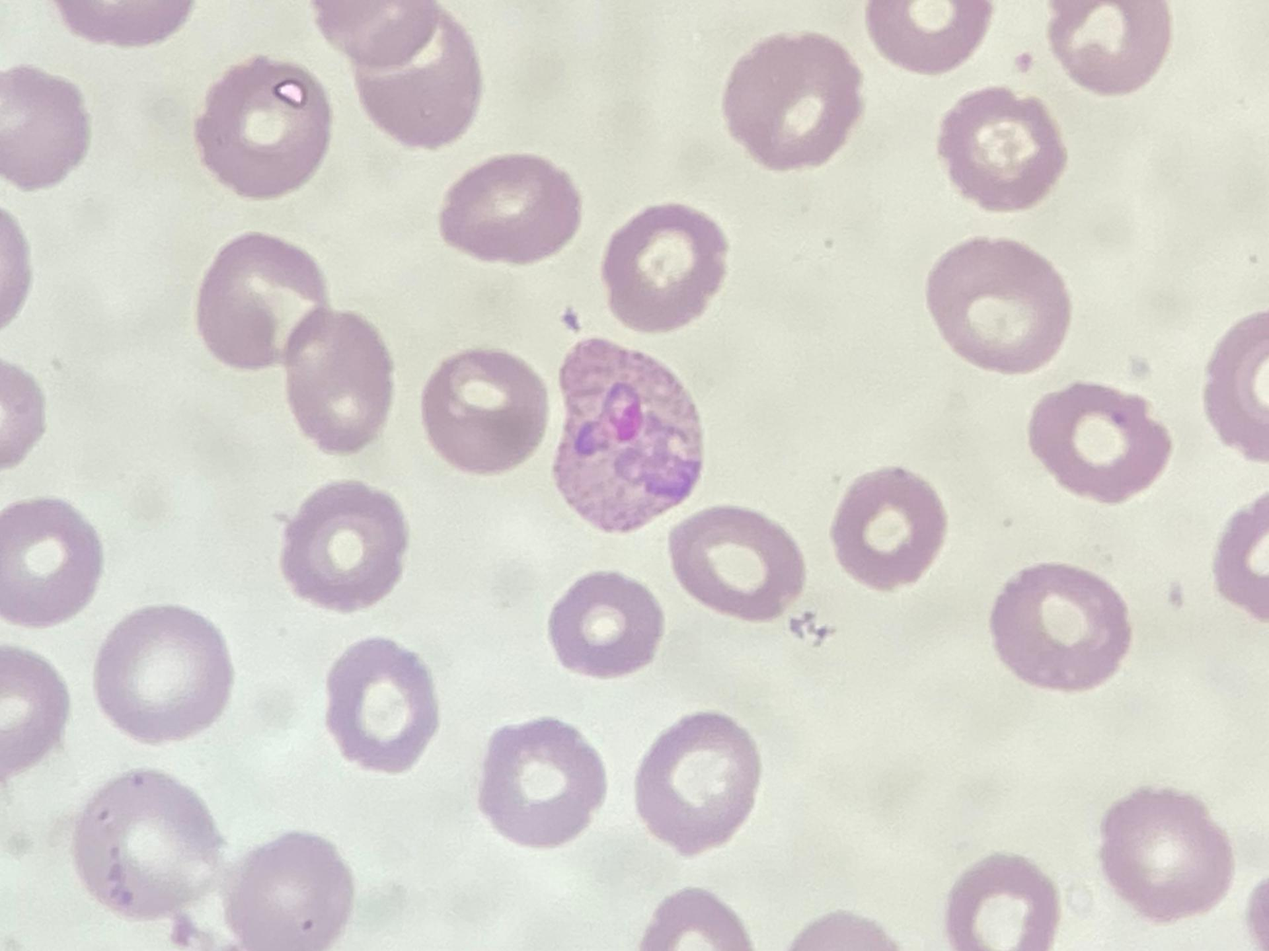Infected: (550, 336, 703, 538)
Uninfected: (195, 57, 333, 202), (80, 777, 219, 918), (724, 30, 861, 172), (929, 238, 1071, 374), (97, 607, 229, 747), (198, 230, 329, 370), (633, 711, 759, 855), (991, 562, 1131, 690), (1102, 787, 1235, 919), (274, 309, 393, 455), (354, 15, 483, 148), (601, 202, 728, 333), (281, 483, 408, 611), (481, 719, 609, 845), (1033, 387, 1173, 502), (426, 349, 549, 476), (939, 91, 1066, 213), (324, 635, 437, 772), (671, 508, 808, 620), (441, 154, 582, 262), (225, 835, 352, 951), (831, 465, 944, 588), (0, 498, 101, 625), (549, 570, 663, 676), (1046, 0, 1176, 91), (0, 66, 91, 189), (950, 858, 1061, 951), (861, 0, 993, 71)
